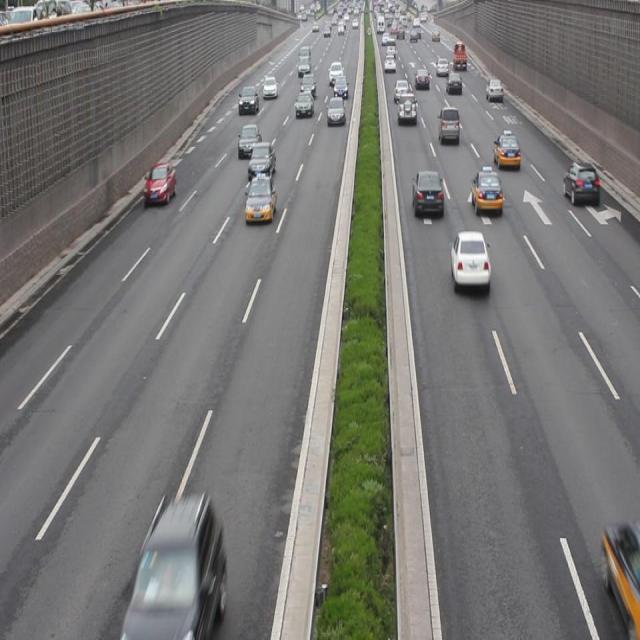car: (119, 494, 227, 631), (598, 518, 640, 622), (450, 231, 490, 289), (561, 157, 598, 202), (469, 168, 502, 218), (144, 157, 177, 204), (410, 169, 442, 217), (246, 176, 276, 226), (248, 143, 277, 183), (492, 129, 518, 170), (238, 123, 262, 163), (396, 92, 414, 125), (326, 98, 345, 126)
truck: (439, 105, 458, 142)
